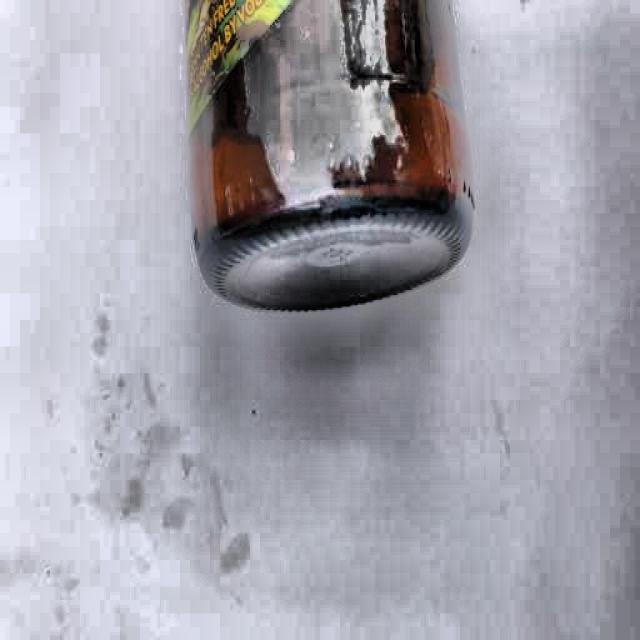glass: (179, 0, 477, 313)
